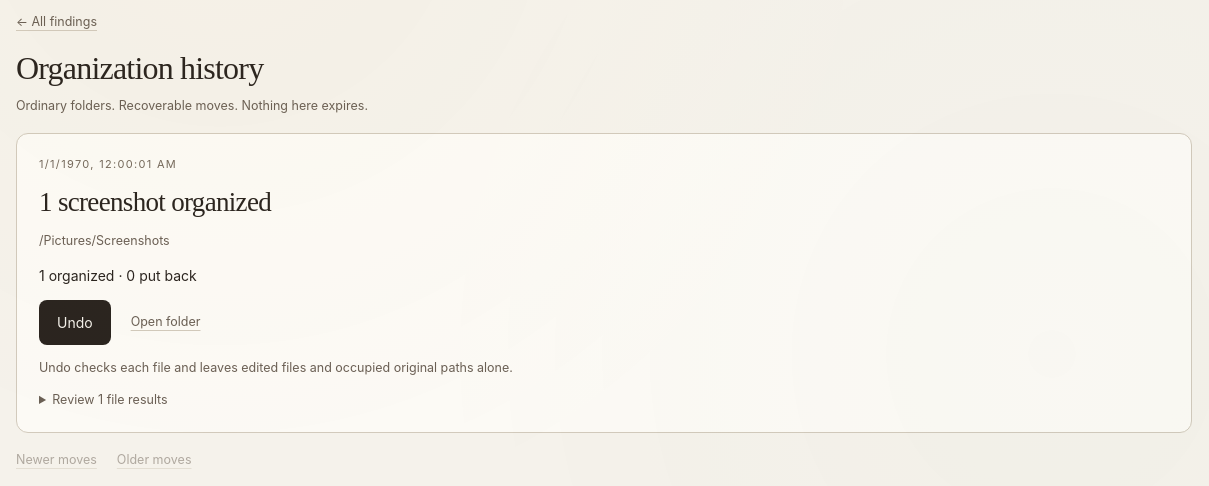
Test case: history survives a new screen and provides undo and per-file outcomes
(page scrolled)
Click the button "Undo" at (75, 322), box [39,300,111,345]
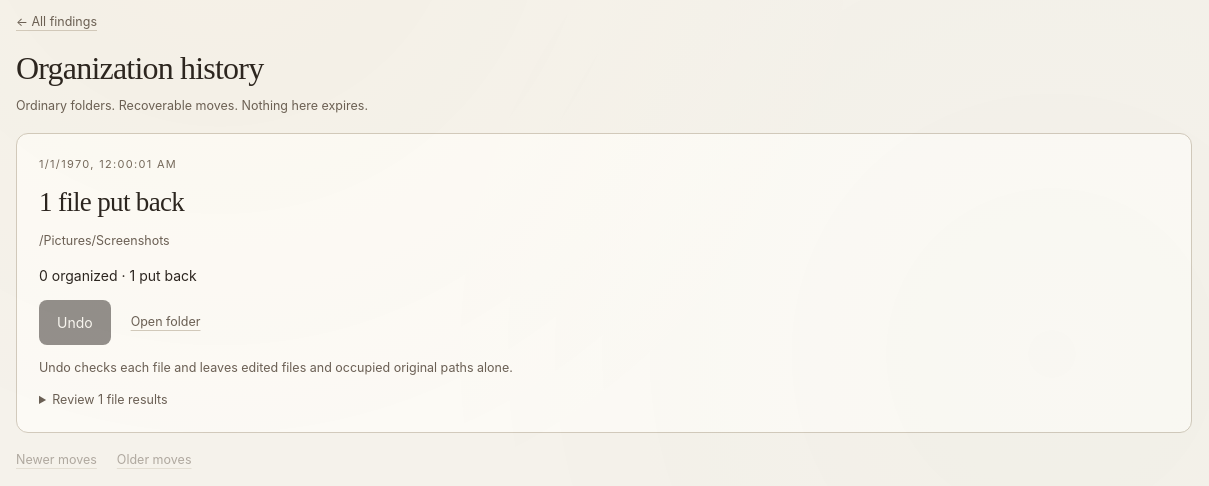
Result: the text "1 file put back" is shown at [39,187,184,217]
